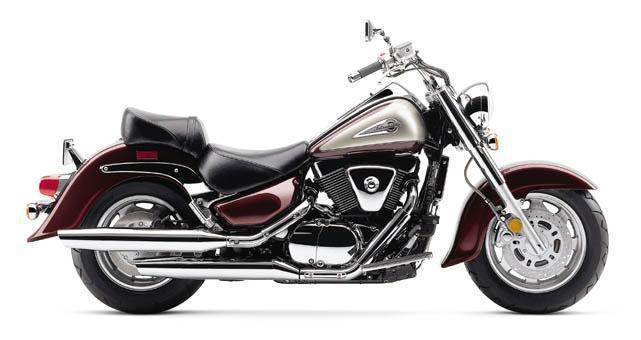Motorcycle: (16, 0, 628, 326)
